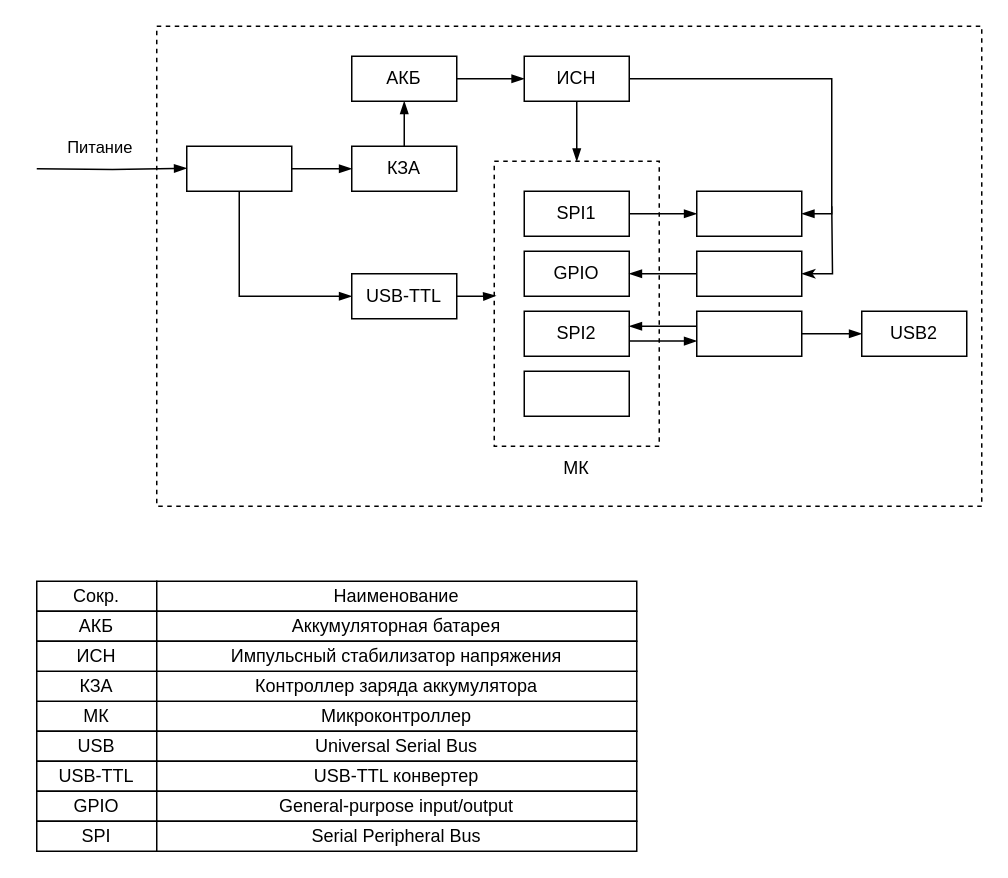
Some shapes in this 1008 by 878 pixel diagram are drawn without their labels. The shapes that lost their labels are listed below. From the top down, each one's box as (x1, y1, x2, y2) in pixels, then its label:
(185, 145, 292, 191): USB1
(695, 190, 802, 236): Дисплей
(695, 250, 802, 296): Кнопка
(695, 310, 802, 356): SD-карта
(523, 370, 629, 416): WIFI
